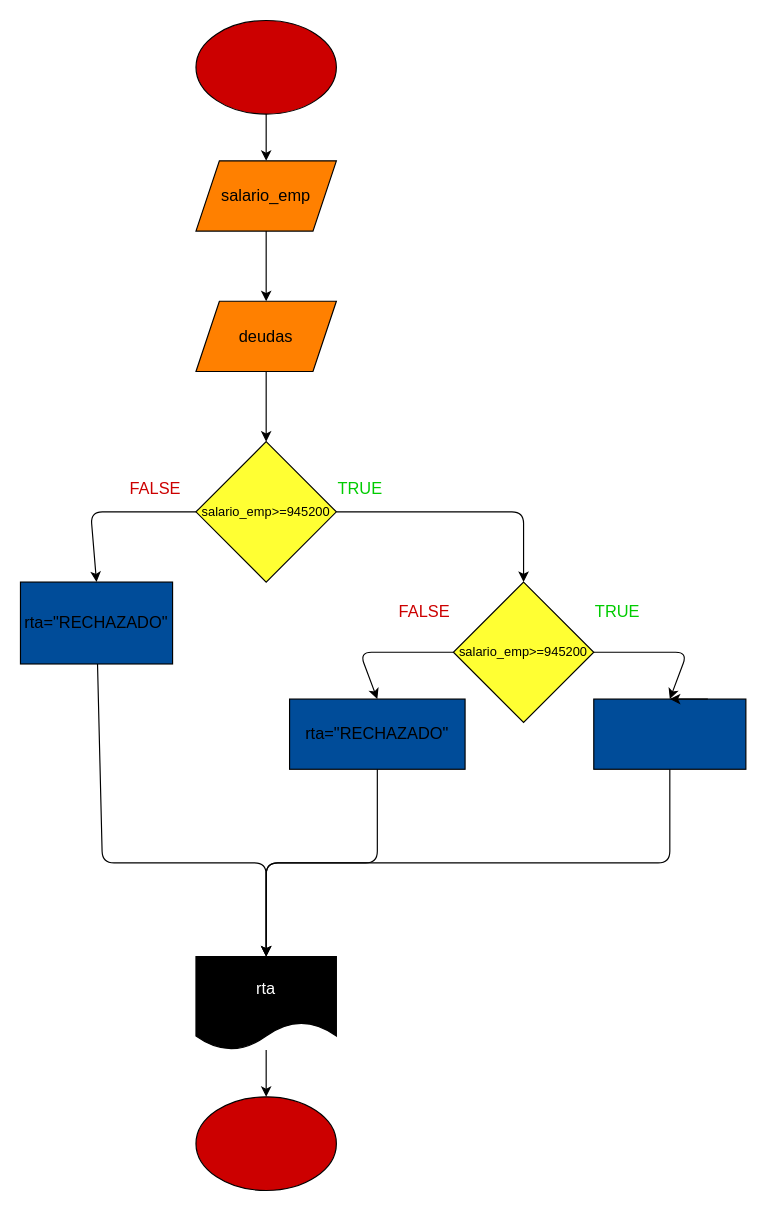
The diagram is 766 pixels wide and 1211 high, and some of its shapes have lost their labels. The shapes that lost their labels are listed below. From the top down, each one's centre as x and y in pixels, then its label:
point (265, 66): INICIO
point (669, 733): rta="APROBADO"
point (265, 1143): FIN
